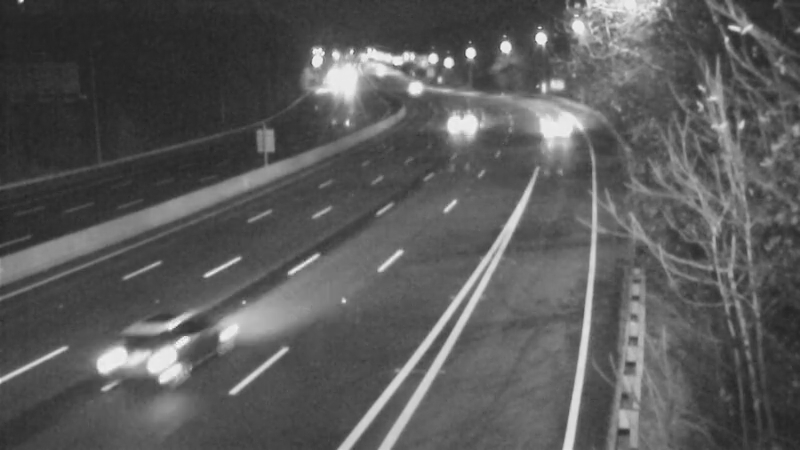vehicle: (91, 301, 201, 411), (385, 59, 435, 109), (521, 95, 571, 145), (432, 100, 482, 150)
